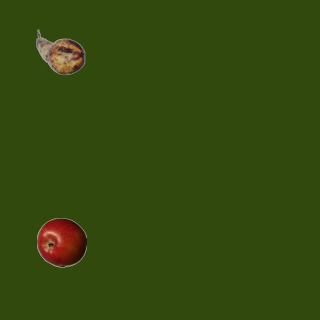Apple Braeburn: (36, 217, 86, 267)
Pear Abate: (35, 27, 85, 77)
